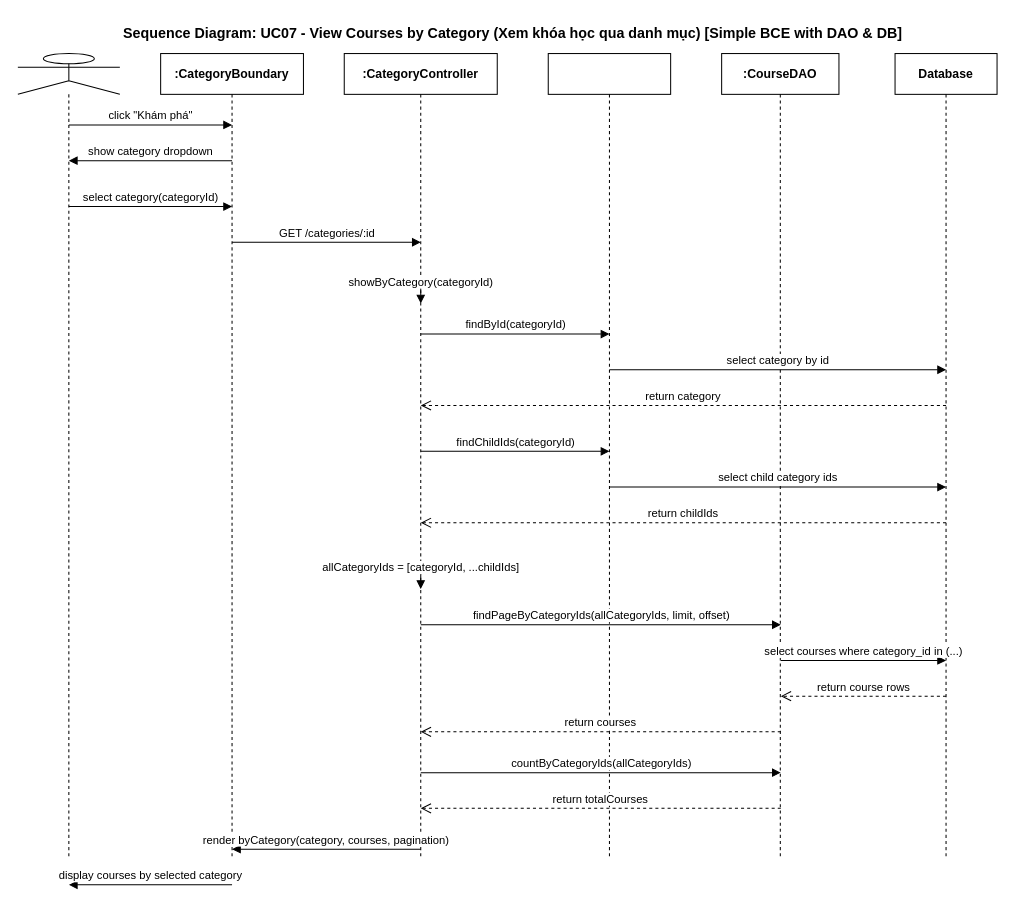
This 1015x911 diagram has some shape labels left out. The box of each missing label's shape, as (x1, y1, x2, y2) in pixels:
:CategoryDAO: (547, 53, 671, 859)
Guest: (17, 53, 120, 859)
